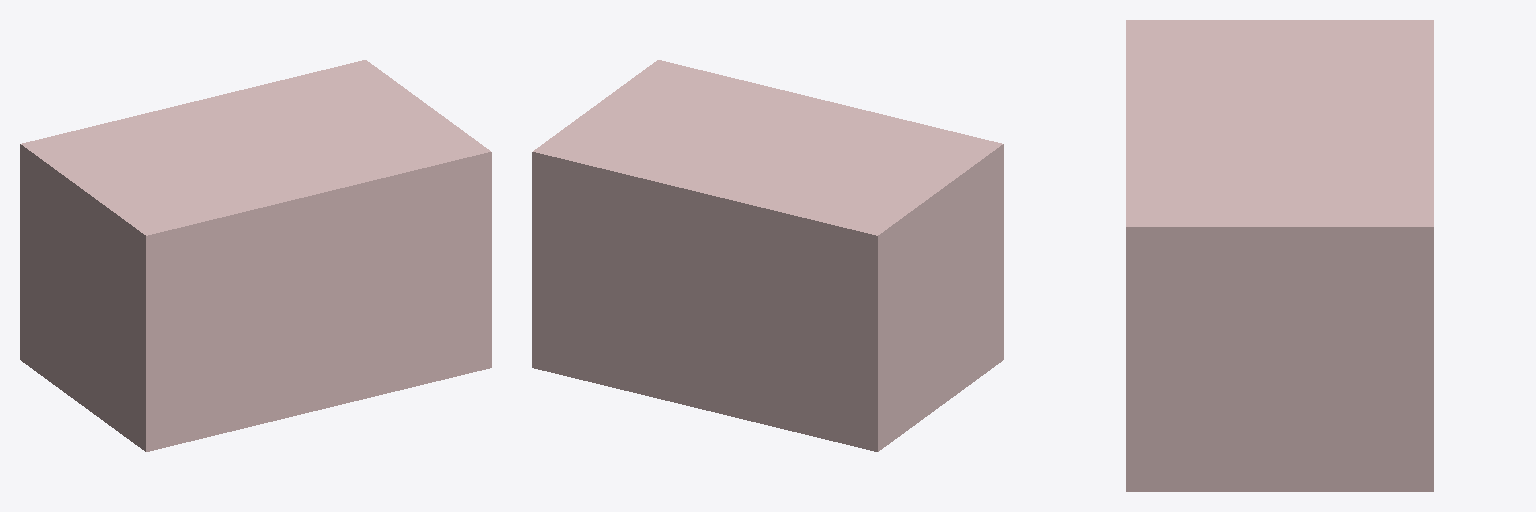
The robot description file, URDF, robot "box.urdf":
<?xml version="1.0" ?>
<robot name="box.urdf">
  <link name="baseLink">
    <contact>
      <lateral_friction value="1.0"/>
      <rolling_friction value="0.0001"/>
      <inertia_scaling value="3.0"/>
    </contact>
    <inertial>
      <origin rpy="0 0 0" xyz="0 0 0"/>
       <mass value="0.1"/>
       <inertia ixx="1" ixy="0" ixz="0" iyy="1" iyz="0" izz="1"/>
    </inertial>
    <visual>
      <origin rpy="0 0 0" xyz="0 0 0"/>
      <geometry>
        <!-- <box size="0.319 0.201 0.191"/> -->
        <mesh filename="box/box.obj" scale="0.319 0.201 0.191"/>
      </geometry>
      <material name="white">
        <color rgba="0.9 0.8 0.8 1"/>
      </material>
    </visual>
    <collision>
      <origin rpy="0 0 0" xyz="0 0 0"/>
      <geometry>
        <mesh filename="box/box.obj" scale="0.319 0.201 0.191"/>
	 	    <!-- <box size="0.319 0.201 0.191"/> -->
      </geometry>
    </collision>
  </link>
</robot>

--- Render facts (derived) ---
Views: 3 orthographic renders of the robot side by side, from view 1: azimuth 30°, elevation 25°; view 2: azimuth 150°, elevation 25°; view 3: azimuth 270°, elevation 25°.
Robot: box.urdf — 1 links, 0 joints (none); root link baseLink; default pose: every joint at zero.
Links seen in each view (by area): view 1: baseLink; view 2: baseLink; view 3: baseLink.
Boxes of the visible links, x1,y1,x2,y2 form: baseLink: (20, 60, 491, 451); baseLink: (532, 60, 1003, 451); baseLink: (1126, 20, 1433, 491).
Bounding box of the posed robot: 0.319 × 0.201 × 0.191 m (x, y, z).
Meshes: 1 distinct files referenced, 1 mesh visuals loaded (1 OBJ).
